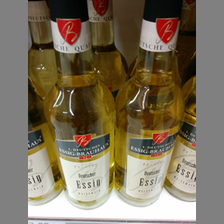vinegar: (44, 1, 121, 211), (118, 1, 183, 210)
